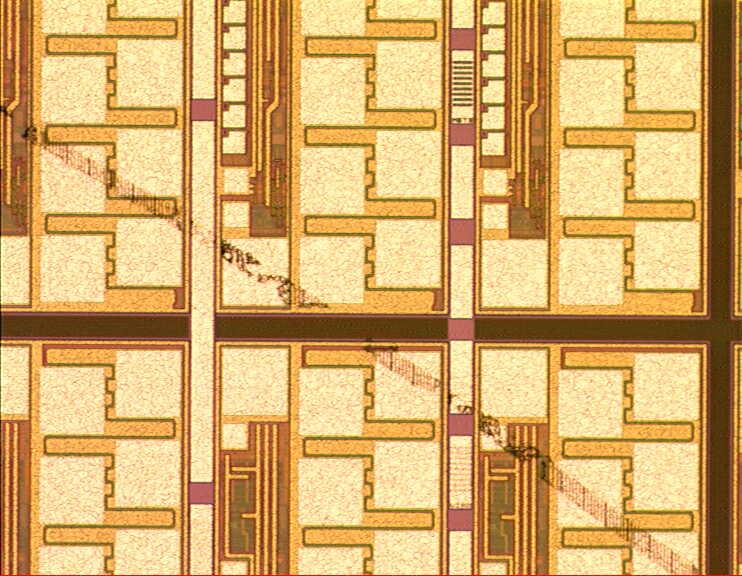SCRATCH: (1, 101, 716, 576)
